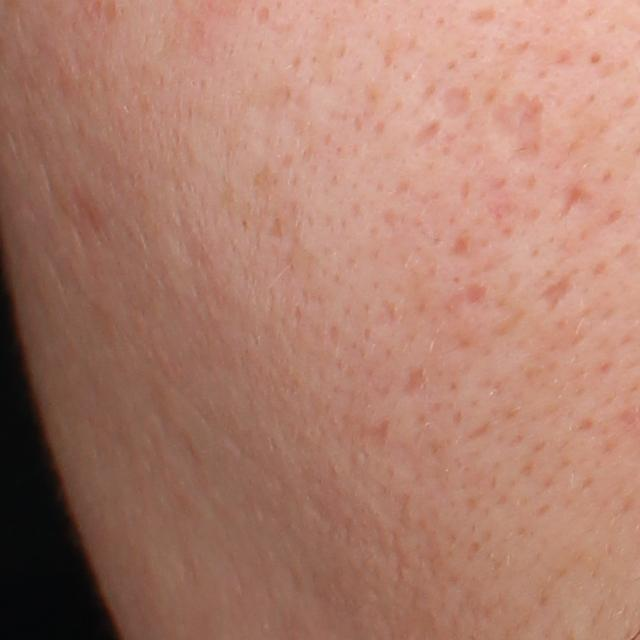atrophic_scar: (493, 91, 547, 160), (432, 86, 474, 126), (558, 179, 593, 220), (463, 0, 514, 27), (409, 118, 447, 151), (540, 275, 575, 309), (397, 365, 426, 399), (444, 229, 472, 260), (465, 284, 486, 306)
comedo: (580, 45, 604, 69)
